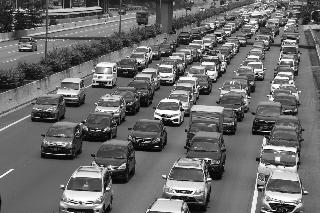mobil: (60, 166, 113, 213), (160, 158, 212, 200), (91, 140, 139, 184), (185, 133, 228, 179), (260, 172, 306, 213), (44, 122, 84, 160), (128, 118, 168, 152), (82, 112, 120, 142), (32, 90, 66, 121), (252, 101, 278, 137), (97, 94, 127, 124), (59, 78, 87, 110), (154, 97, 186, 124), (116, 86, 142, 116), (93, 61, 117, 89), (130, 82, 156, 106), (118, 56, 138, 80)
